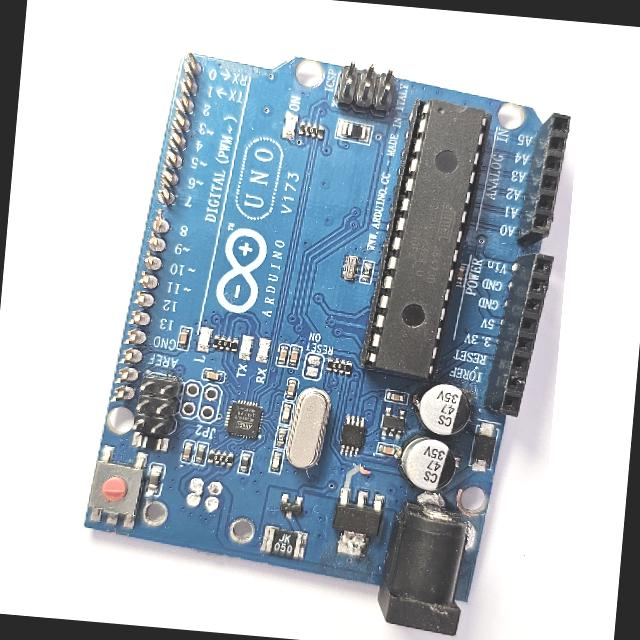missing_digital_pins: (106, 45, 213, 405)
missing_usb: (149, 462, 266, 557)
